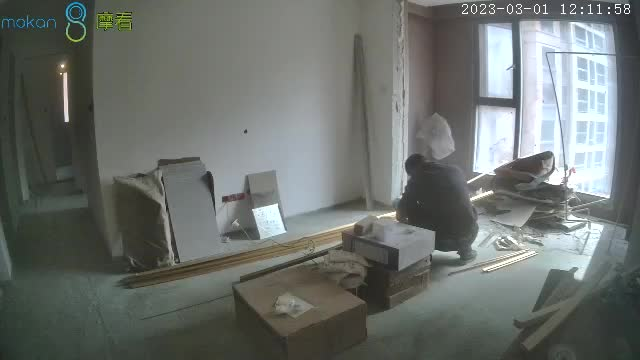people: (397, 153, 479, 265)
window: (470, 17, 617, 199)
